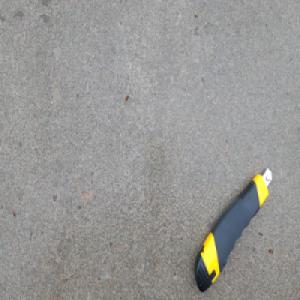Cutter: (193, 164, 273, 293)
